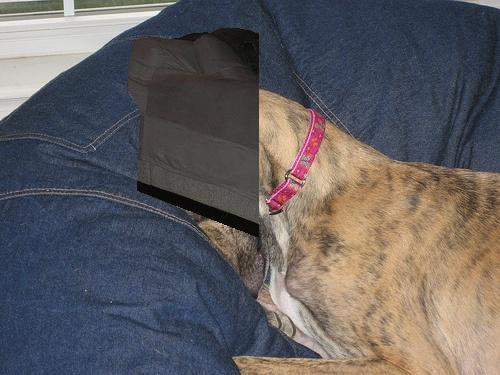tampered: (128, 29, 259, 237)
